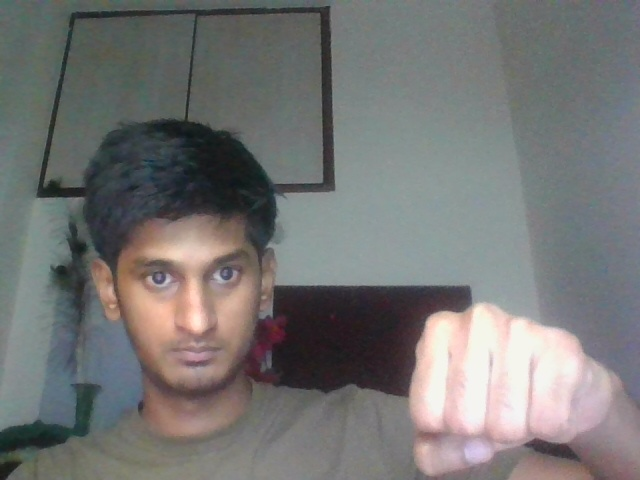Yes: (360, 280, 639, 480)
